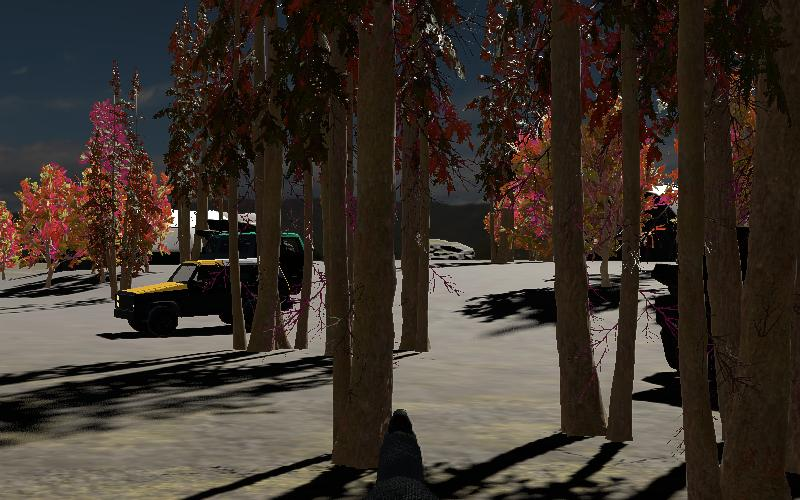car: (110, 255, 293, 339), (187, 228, 317, 293)
